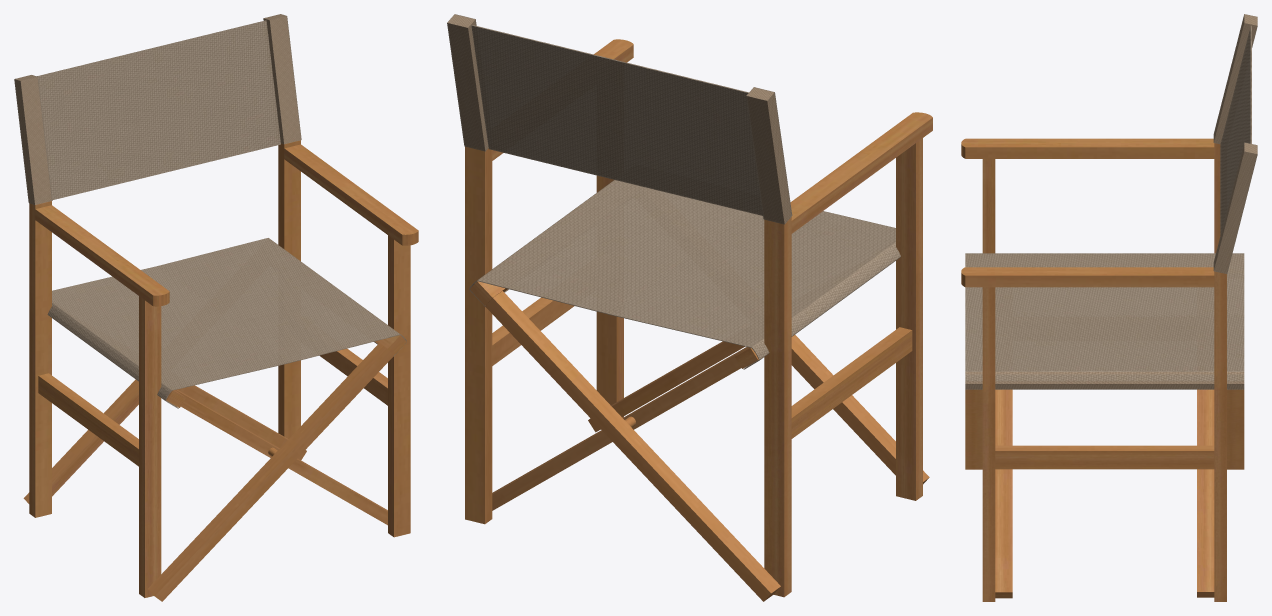
The model's file is carry-directerchair_nocolor.fbx.
3 renders of one model, left to right at view 1: azimuth 30°, elevation 25°; view 2: azimuth 150°, elevation 25°; view 3: azimuth 270°, elevation 25°, orthographic. The views are drawn at different scales.
Parts seen in each view (by area): view 1: キャリーディレクターチェアー修正前; view 2: キャリーディレクターチェアー修正前; view 3: キャリーディレクターチェアー修正前.
Part boxes in pixels (x1,y1,x2,y2): キャリーディレクターチェアー修正前: (14, 14, 418, 601); キャリーディレクターチェアー修正前: (447, 14, 932, 601); キャリーディレクターチェアー修正前: (961, 14, 1257, 601).
Bounding box in the file's own units: 56.2 × 85.94 × 51.25.
Materials: 3 (3 with a texture image).
